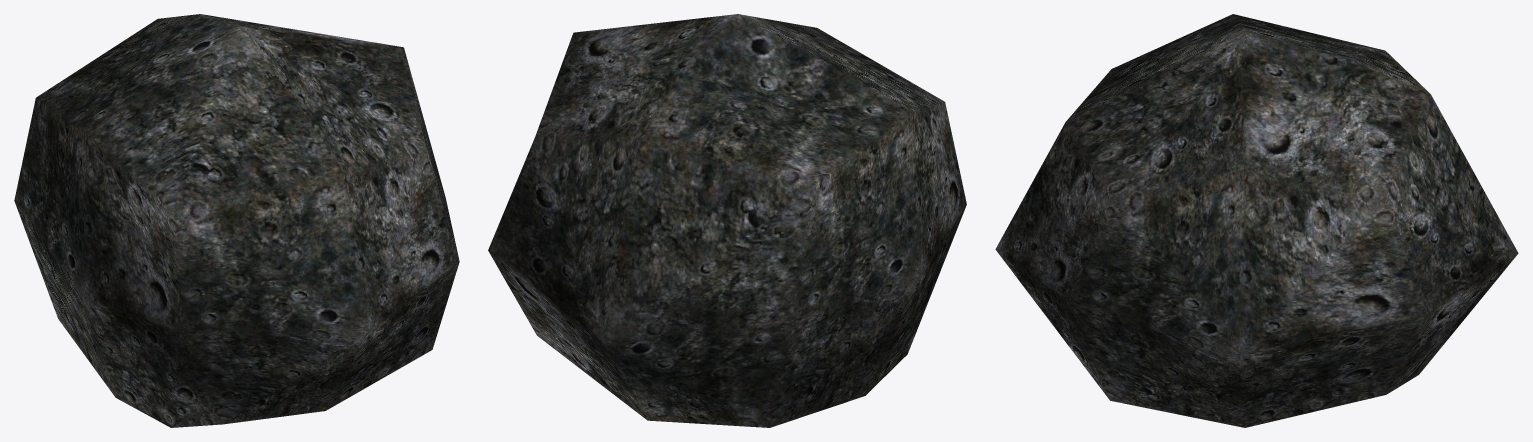
The model's file is asteroid_iron_medium_s02_l2.fbx.
3 renders of one model, left to right at view 1: azimuth 30°, elevation 25°; view 2: azimuth 150°, elevation 25°; view 3: azimuth 270°, elevation 25°, orthographic. The views are drawn at different scales.
Visible parts, largest first — view 1: mesh_node; view 2: mesh_node; view 3: mesh_node.
Part boxes in pixels (box(x1,y1,x2,y2)): mesh_node: box(14, 14, 459, 427); mesh_node: box(488, 14, 966, 427); mesh_node: box(995, 14, 1518, 427).
Bounding box in the file's own units: 51.92 × 49.89 × 62.88.
